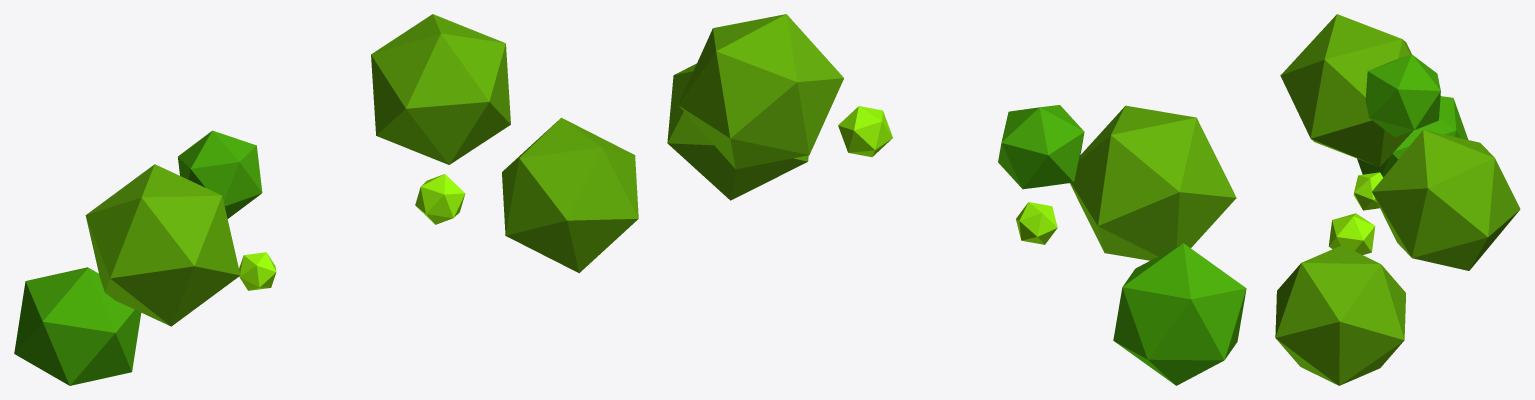
Rendered from tree.gltf.
3 views of the same model, side by side, from view 1: azimuth 30°, elevation 25°; view 2: azimuth 150°, elevation 25°; view 3: azimuth 270°, elevation 25° (orthographic). The views are drawn at different scales.
Parts seen in each view (by area): view 1: Icosphere.003, Icosphere.001, Icosphere, Icosphere.004, Icosphere.002, Icosphere.005, Icosphere.006; view 2: Icosphere.003, Icosphere.001, Icosphere.004, Icosphere.002, Icosphere, Icosphere.005, Icosphere.006; view 3: Icosphere.001, Icosphere, Icosphere.003, Icosphere.002, Icosphere.004, Icosphere.005, Icosphere.006.
Part boxes in pixels (left/top/right/bottom): Icosphere.003: left=85, top=164, right=240, bottom=326; Icosphere.001: left=371, top=14, right=510, bottom=164; Icosphere: left=502, top=117, right=638, bottom=273; Icosphere.004: left=14, top=267, right=141, bottom=385; Icosphere.002: left=178, top=130, right=262, bottom=218; Icosphere.005: left=415, top=174, right=465, bottom=224; Icosphere.006: left=239, top=252, right=276, bottom=290; Icosphere.003: left=1070, top=105, right=1236, bottom=260; Icosphere.001: left=678, top=14, right=843, bottom=169; Icosphere.004: left=1113, top=243, right=1246, bottom=385; Icosphere.002: left=998, top=105, right=1084, bottom=189; Icosphere: left=667, top=63, right=808, bottom=200; Icosphere.005: left=838, top=106, right=892, bottom=157; Icosphere.006: left=1016, top=202, right=1057, bottom=244; Icosphere.001: left=1372, top=130, right=1520, bottom=270; Icosphere: left=1275, top=245, right=1405, bottom=385; Icosphere.003: left=1280, top=14, right=1412, bottom=166; Icosphere.002: left=1365, top=54, right=1440, bottom=137; Icosphere.004: left=1357, top=96, right=1468, bottom=177; Icosphere.005: left=1328, top=213, right=1375, bottom=254; Icosphere.006: left=1353, top=172, right=1383, bottom=210.
Size of the model in its own units: 3.71 by 1.62 by 1.44.
